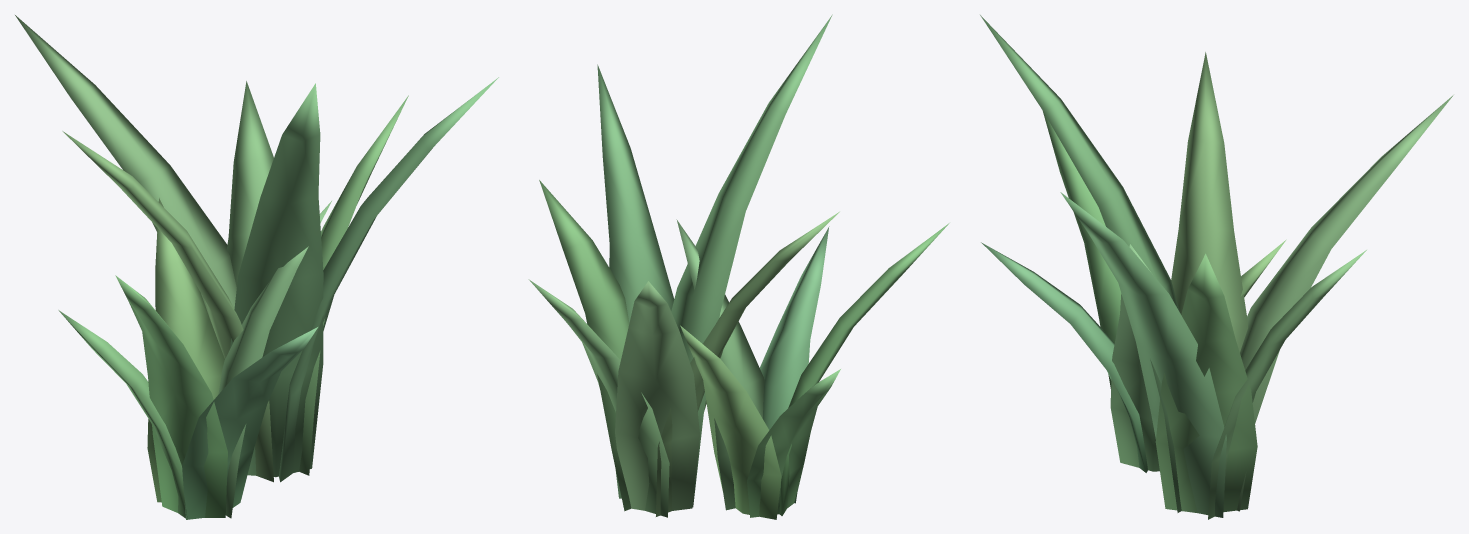
File: W2_FloraRing_8_12.fbx
3 views of the same model, side by side, from view 1: azimuth 30°, elevation 25°; view 2: azimuth 150°, elevation 25°; view 3: azimuth 270°, elevation 25° (orthographic). The views are drawn at different scales.
Visible parts, largest first — view 1: W2_FloraRing_8_12; view 2: W2_FloraRing_8_12; view 3: W2_FloraRing_8_12.
Part boxes in pixels (x1=…): W2_FloraRing_8_12: x1=15, y1=15, x2=498, y2=519; W2_FloraRing_8_12: x1=528, y1=14, x2=949, y2=519; W2_FloraRing_8_12: x1=980, y1=15, x2=1453, y2=519.
Size of the model in its own units: 0.1098 by 0.1297 by 0.1235.
